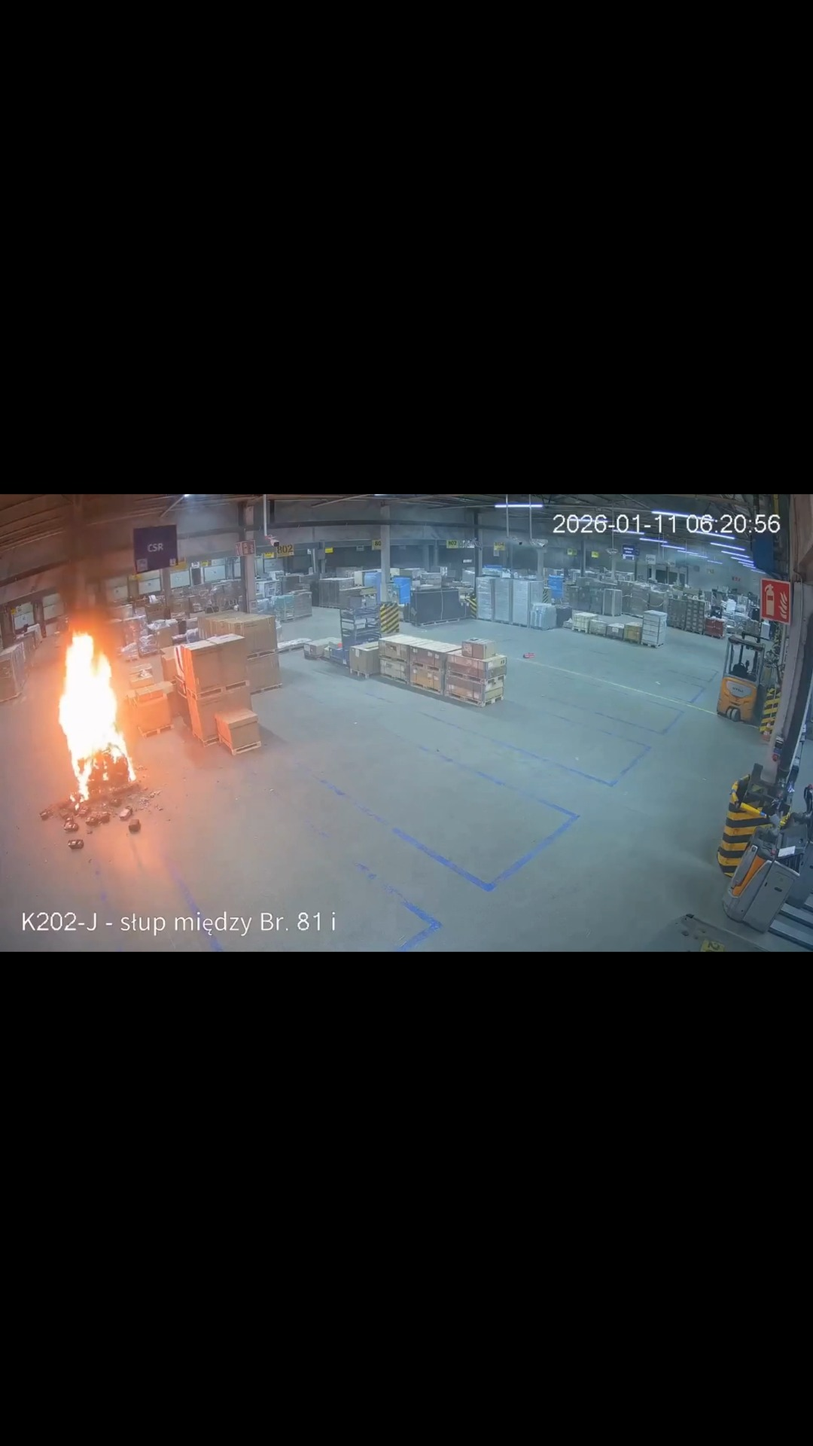fire: (58, 629, 139, 808)
smoke: (40, 496, 133, 636)
